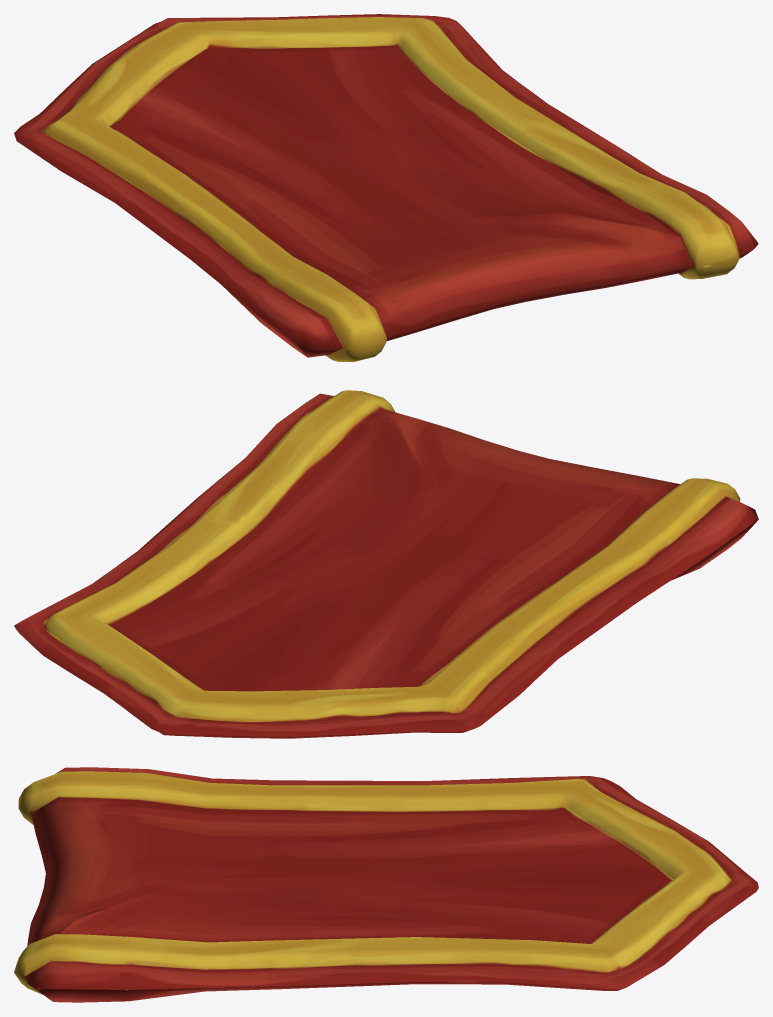
The model's file is Flag_3D_Small.fbx.
The picture shows the model from 3 angles, top to bottom: view 1: azimuth 30°, elevation 25°; view 2: azimuth 150°, elevation 25°; view 3: azimuth 270°, elevation 25°; orthographic projection. The views are drawn at different scales.
Parts seen in each view (by area): view 1: Flag_3D_Small; view 2: Flag_3D_Small; view 3: Flag_3D_Small.
Part boxes in pixels (left/top/right/bottom): Flag_3D_Small: left=14, top=14, right=758, bottom=361; Flag_3D_Small: left=14, top=390, right=758, bottom=738; Flag_3D_Small: left=14, top=767, right=758, bottom=1002.
Size of the model in its own units: 1.71 by 0.201 by 2.54.
